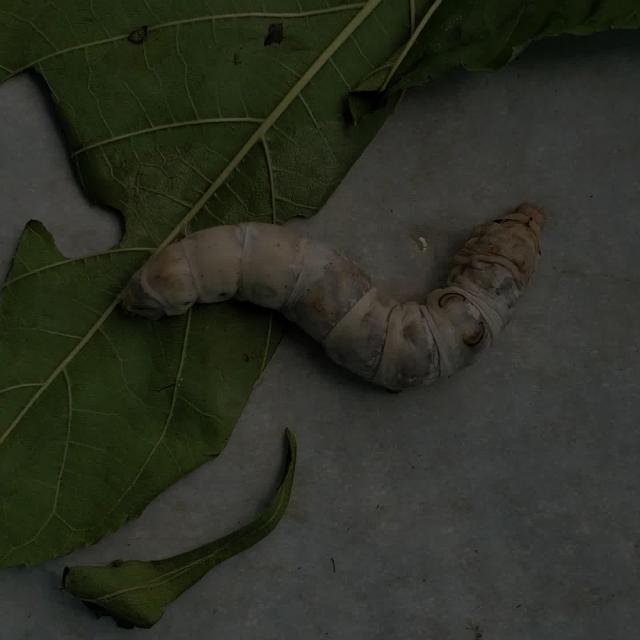Grasserie: (110, 153, 579, 400)
